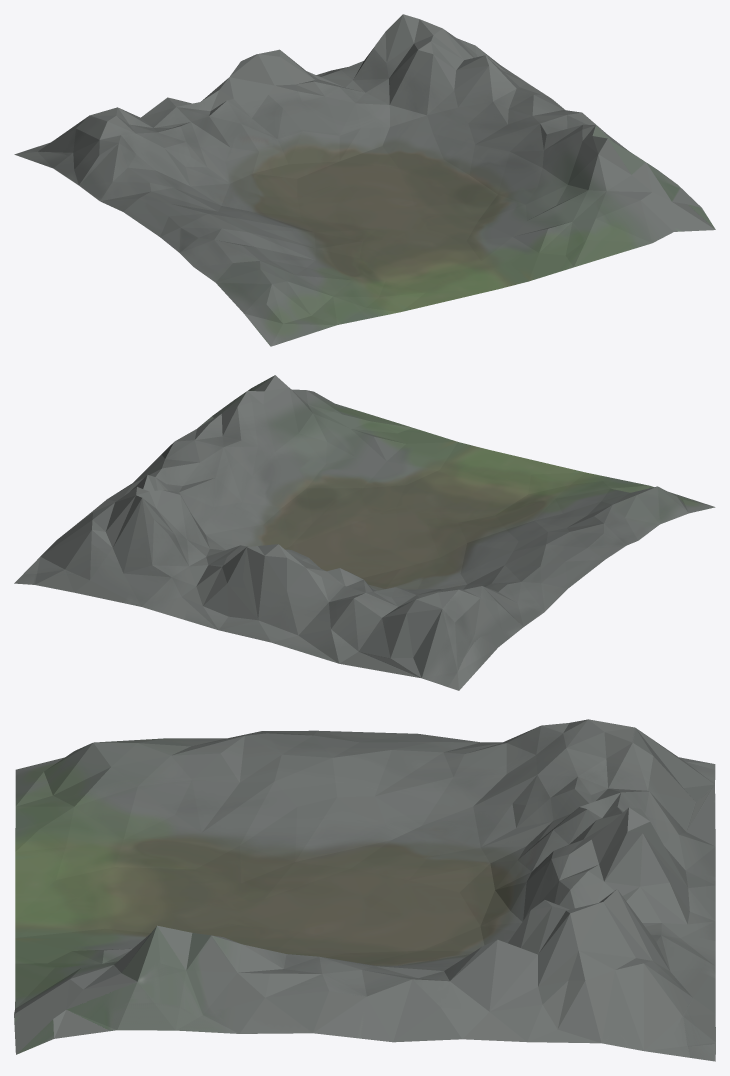
File: Level4T.fbx
The picture shows the model from 3 angles, top to bottom: view 1: azimuth 30°, elevation 25°; view 2: azimuth 150°, elevation 25°; view 3: azimuth 270°, elevation 25°; orthographic projection. The views are drawn at different scales.
Parts seen in each view (by area): view 1: Terrain; view 2: Terrain; view 3: Terrain.
Boxes of the visible parts, x1=… form: Terrain: x1=14, y1=14, x2=715, y2=346; Terrain: x1=14, y1=375, x2=715, y2=690; Terrain: x1=14, y1=719, x2=715, y2=1061.
Bounding box in the file's own units: 50146 × 9109 × 50121.
1 material, 1 textured.
